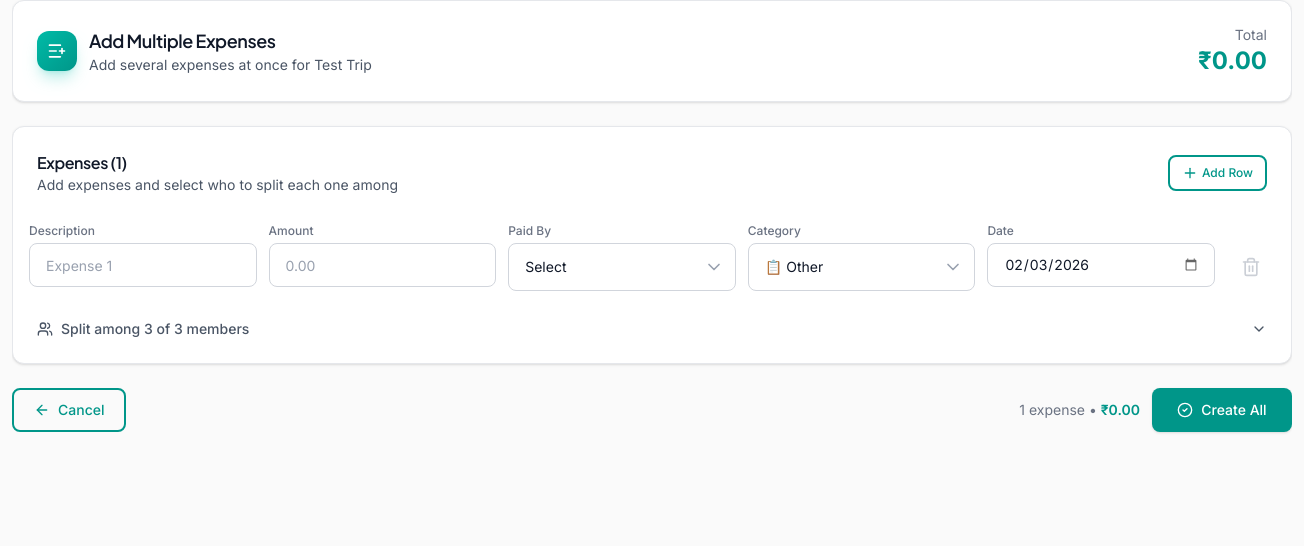
Test case: BulkExpenseForm › clears all members when Clear all is clicked
// Expand split section
Click the button "Split among 3 of 3 members".
click(102, 328)  # box [29, 311, 1275, 347]
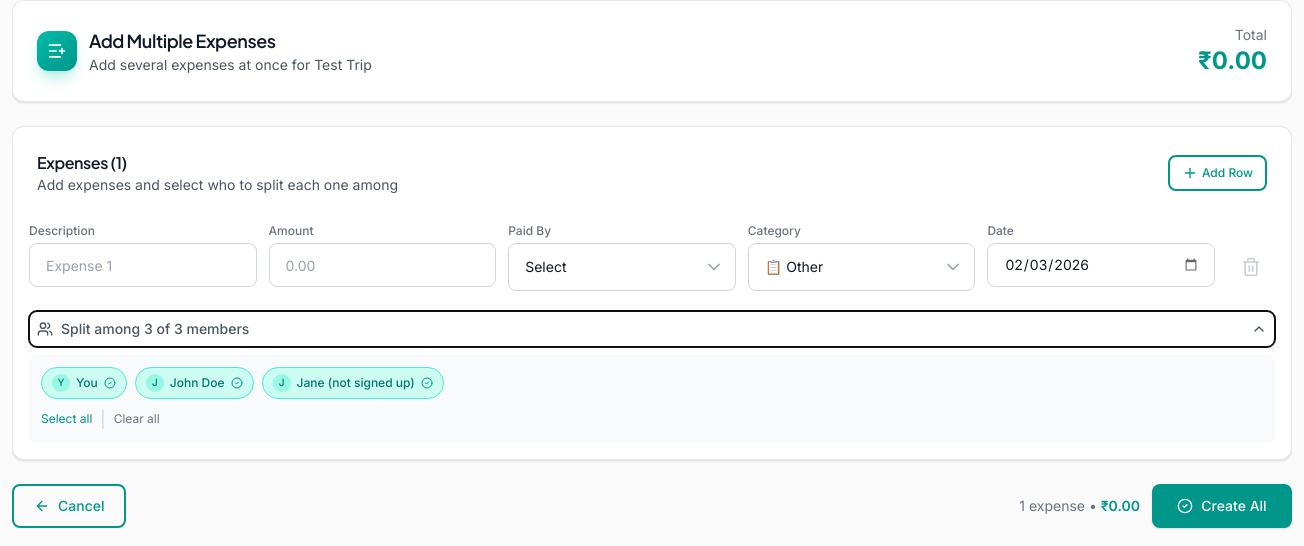
// Click Clear all
Click the button "Clear all".
click(137, 419)  # box [114, 407, 160, 431]
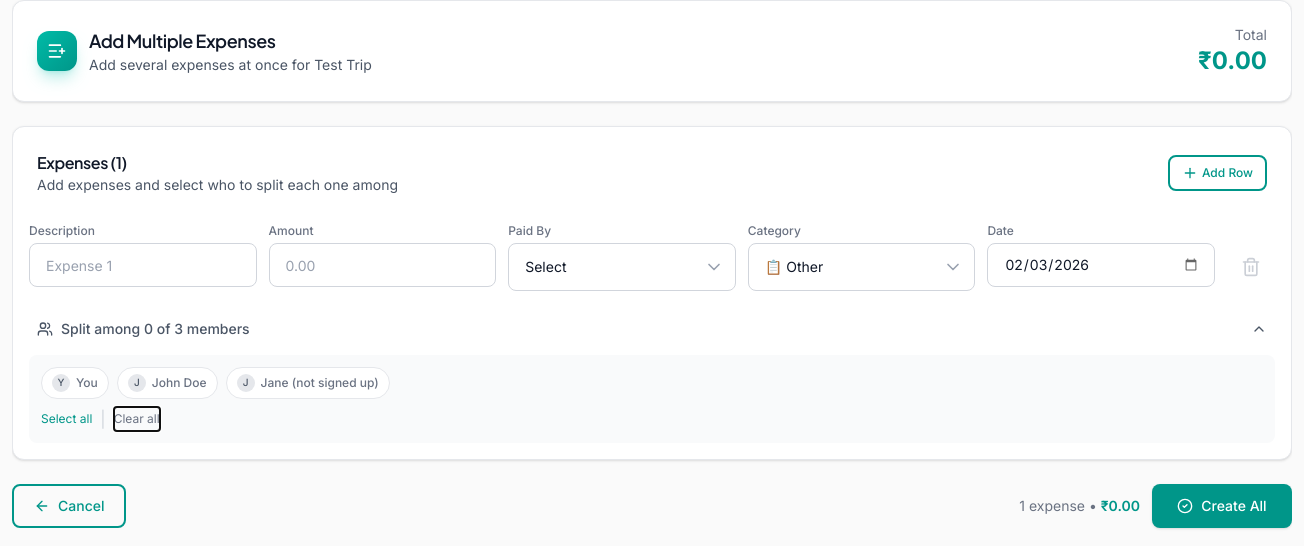
Expected: the text "Split among 0 of 3 members" is shown, [61, 319, 250, 339]
